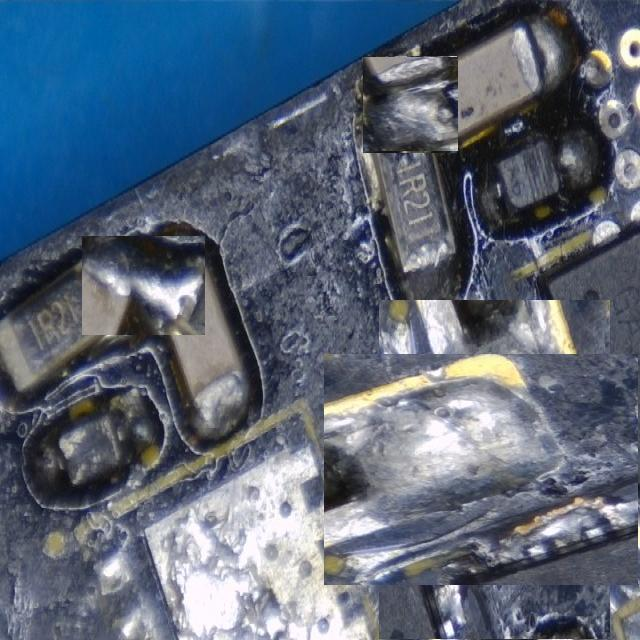Short_circuit: (324, 355, 639, 584), (82, 237, 205, 335), (362, 58, 458, 150)
